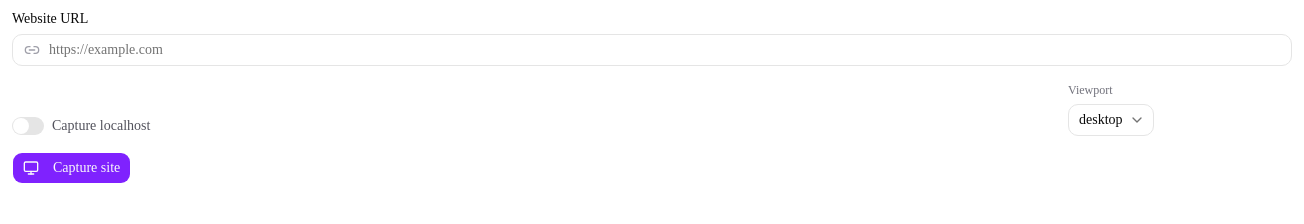
Scenario: UrlInput › rejects empty submission with an error
Click the button "Capture site" at [72, 168], box [12, 152, 131, 184]
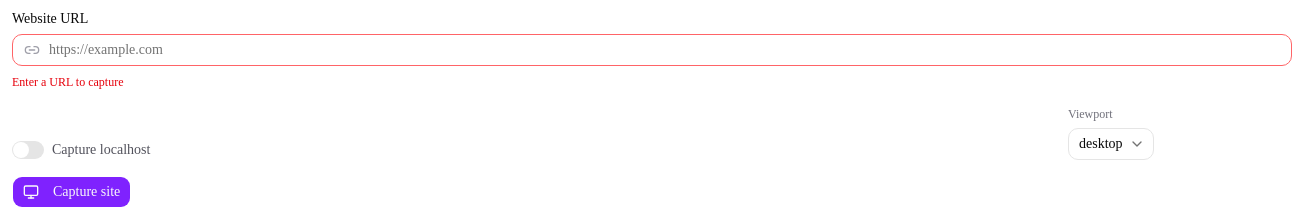
Expected: the text "Enter a URL to capture" is shown, [12, 75, 124, 89]
